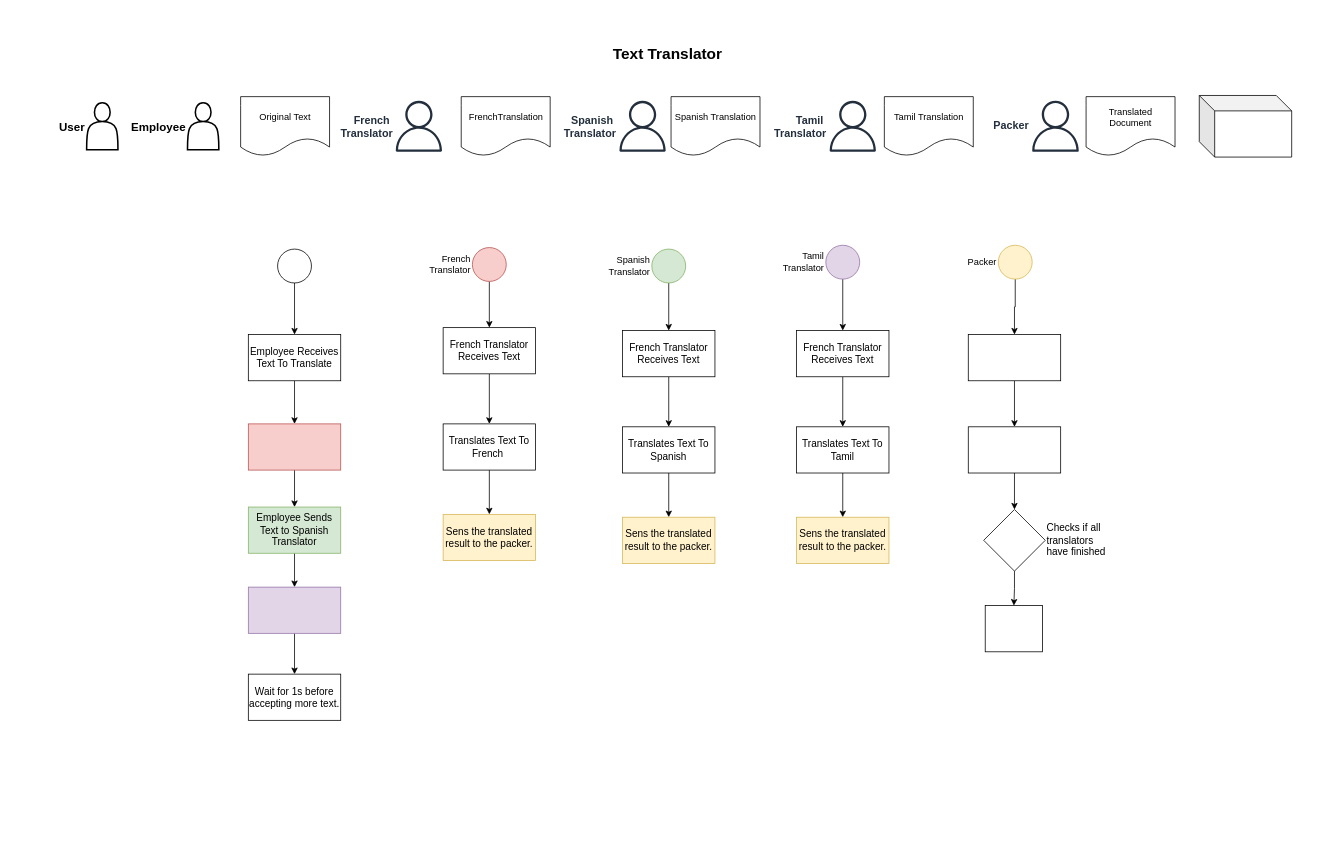
The diagram is 1331 pixels wide and 866 high, and some of its shapes have lost their labels. Here are the shapes that lost their labels. From the top down, the centre of each, then its label:
At (x=1245, y=126): "Cabinet".
At (x=294, y=265): "User Enters the Service".
At (x=1014, y=357): "Packer Receives Translated Trext from Translator".
At (x=294, y=446): "Employee Sends Text to French Translator".
At (x=1014, y=449): "Adds the translation to the translated document.".
At (x=294, y=609): "Employee Sends Text to Tamil Translator".
At (x=1013, y=628): "Add document to cabinet.".
